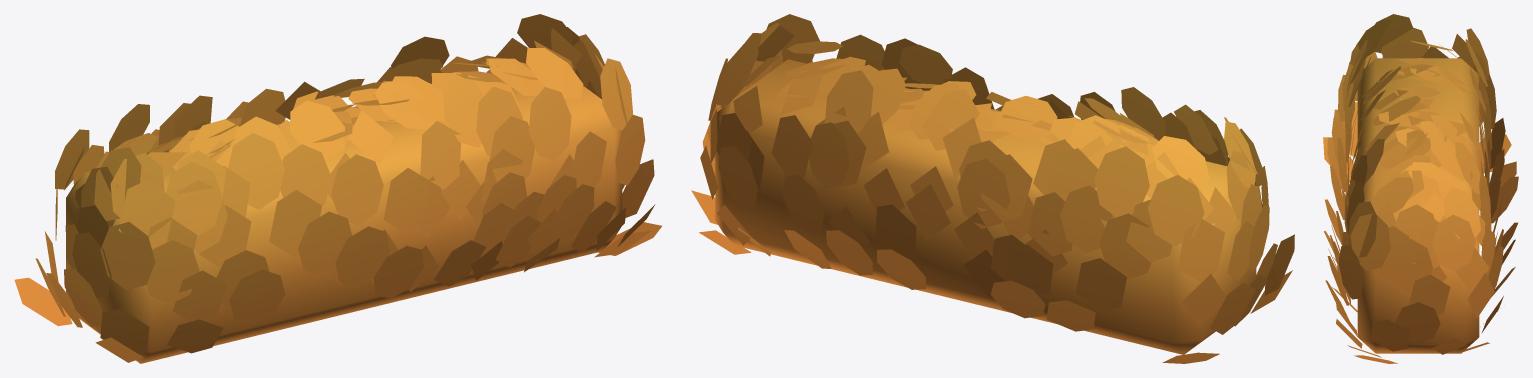
Rendered from bushescubeyellow.glb.
3 views of the same model, side by side, from view 1: azimuth 30°, elevation 25°; view 2: azimuth 150°, elevation 25°; view 3: azimuth 270°, elevation 25° (orthographic). The views are drawn at different scales.
Parts seen in each view (by area): view 1: bushescubeyellow; view 2: bushescubeyellow; view 3: bushescubeyellow.
Part boxes in pixels (bbox=[...]): bushescubeyellow: bbox=[14, 14, 661, 363]; bushescubeyellow: bbox=[691, 14, 1294, 363]; bushescubeyellow: bbox=[1323, 14, 1518, 363].
Bounding box in the file's own units: 5 × 1.79 × 1.88.
1 material, 1 textured.
